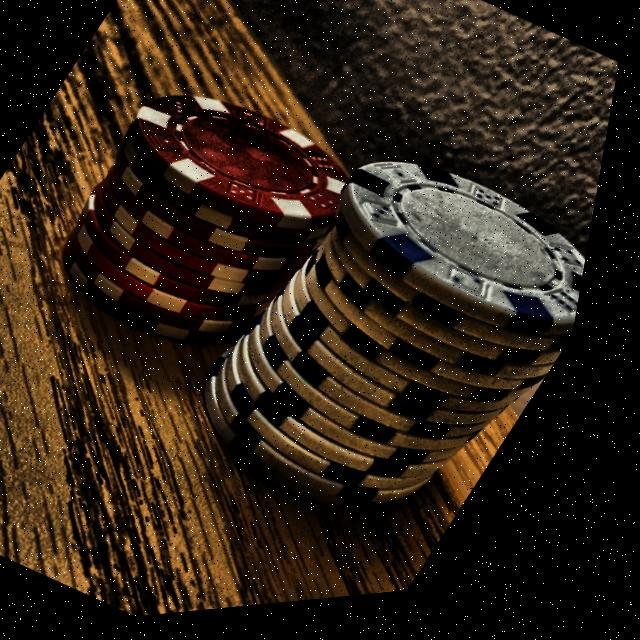Chip: (121, 94, 621, 612), (0, 31, 408, 409)
